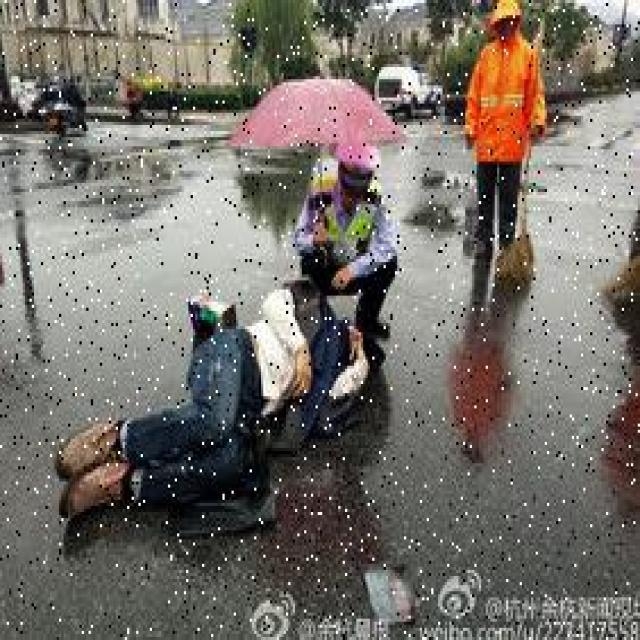fall: (57, 302, 361, 518)
